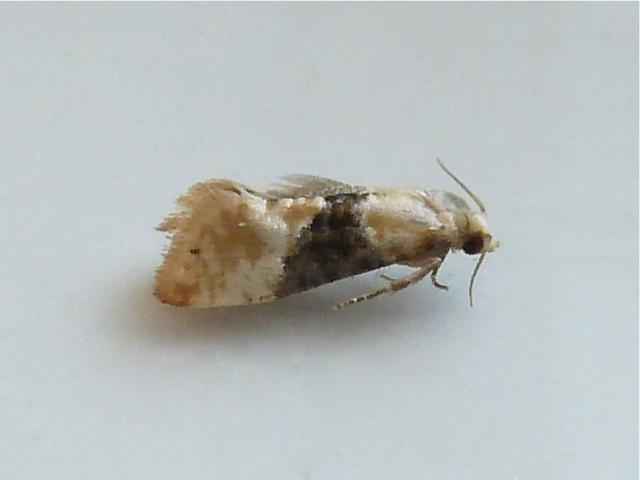Eupoecilia Ambiguella: (147, 152, 505, 318)
